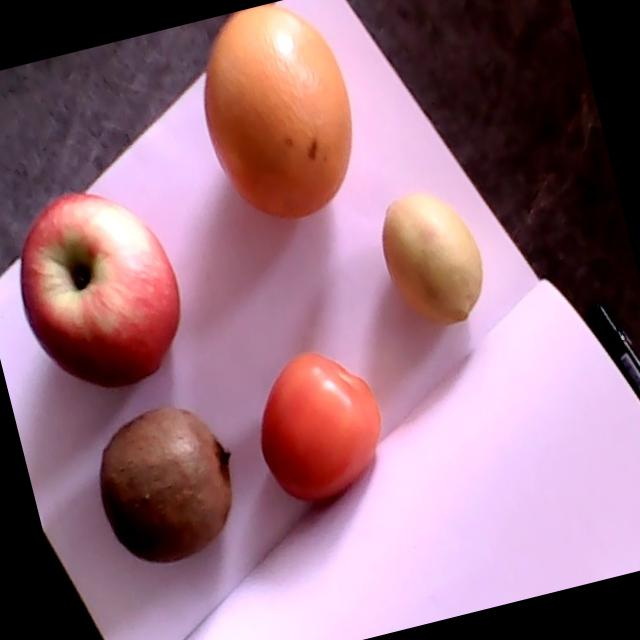apple: (21, 191, 181, 390)
kiwi: (99, 407, 233, 562)
lemon: (383, 195, 481, 324)
orange: (205, 4, 351, 216)
tomato: (261, 353, 381, 501)
